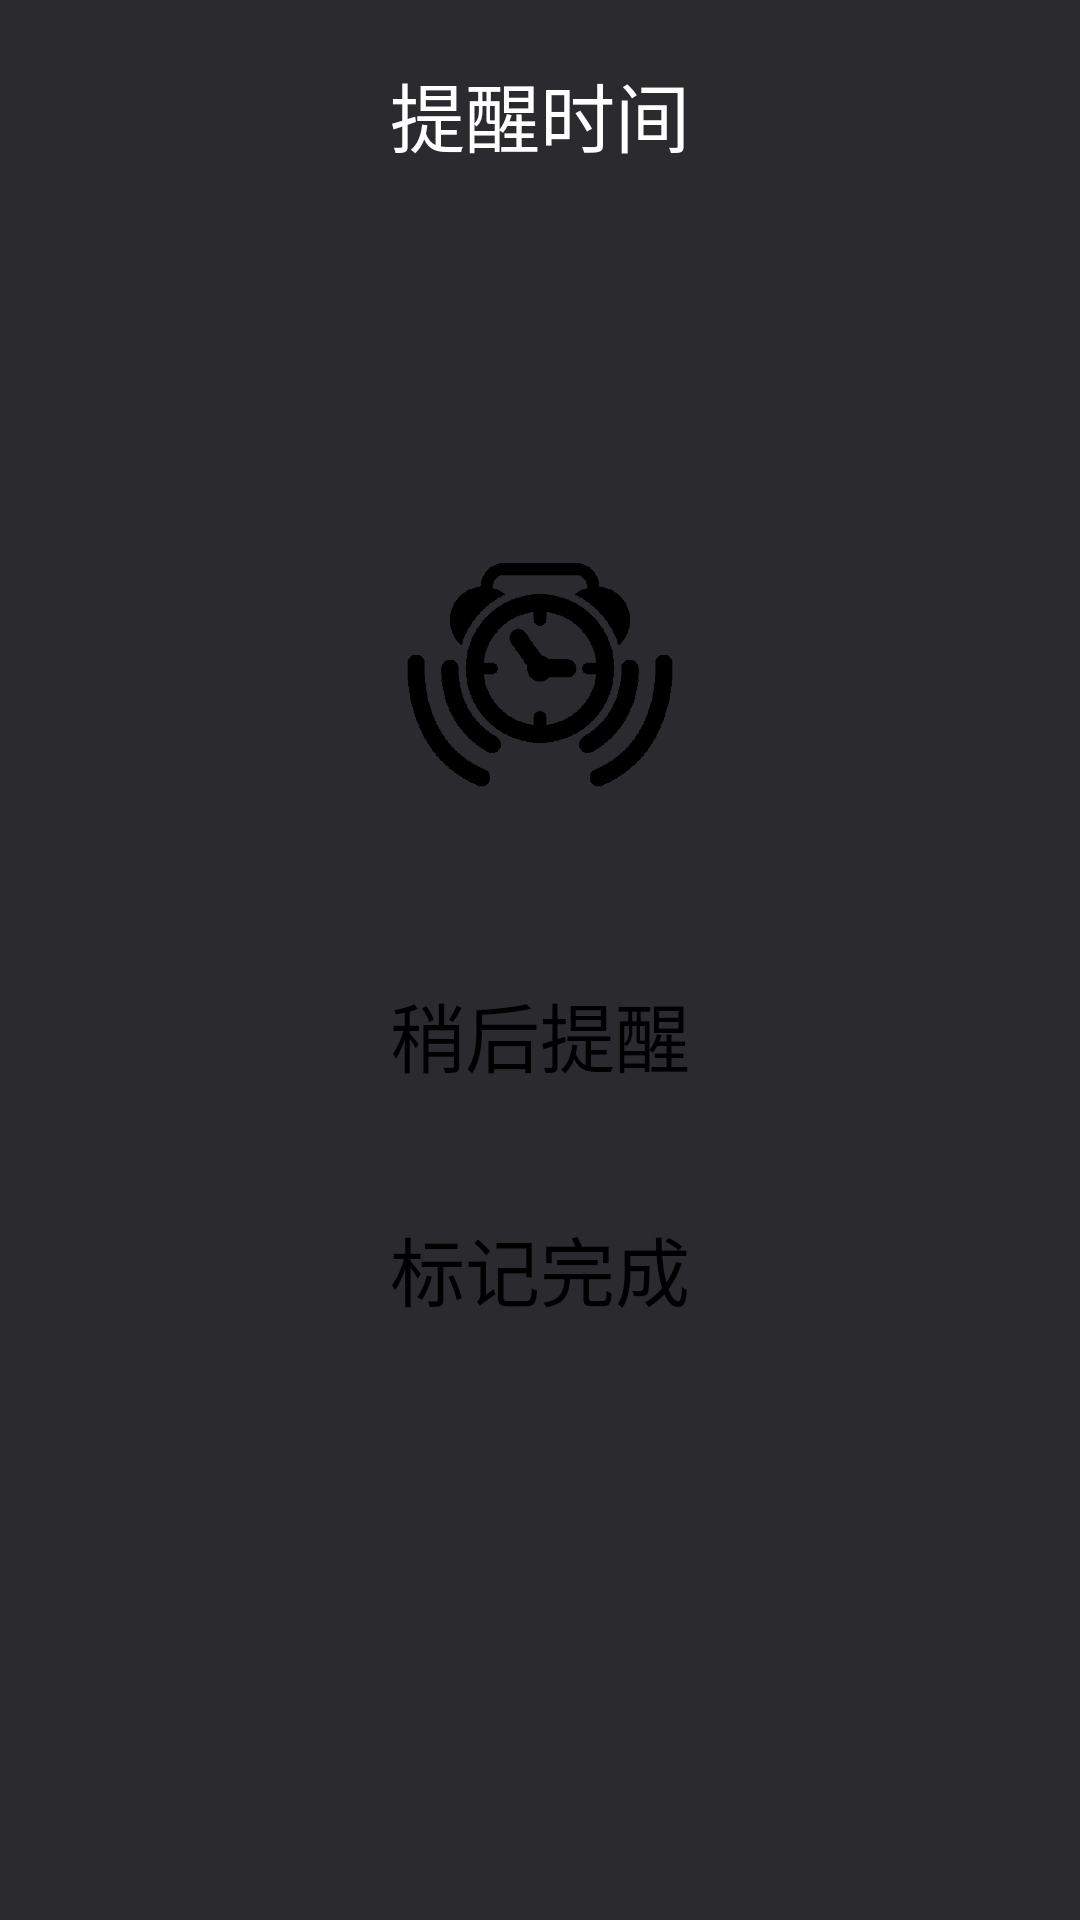

Icons on this 1080w x 1920h Android screen, each with its box as (x1, y1, x2, y2):
alarm: (408, 563, 672, 786)
